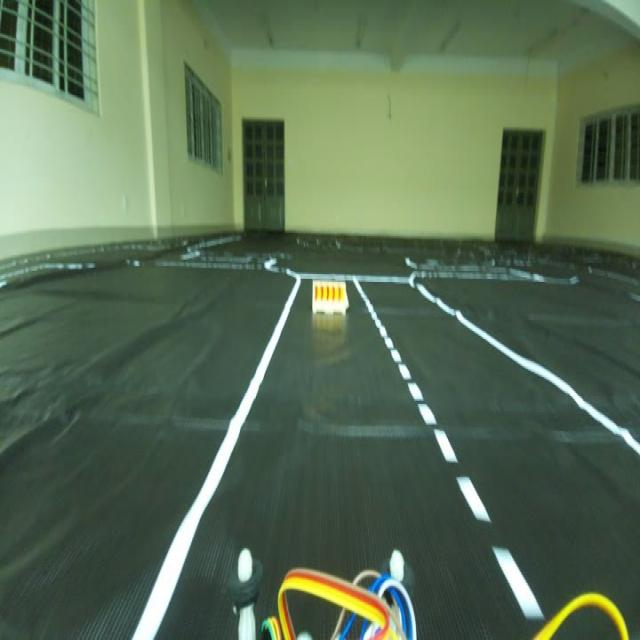roadblock: (308, 278, 353, 326)
